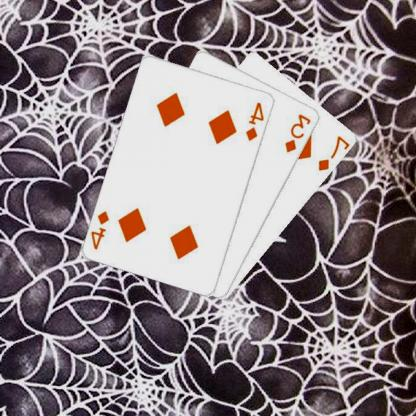3D: (284, 111, 315, 154)
4D: (245, 99, 267, 142), (91, 208, 113, 250)
7D: (317, 132, 352, 172)
